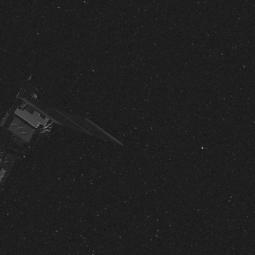soho: (0, 76, 121, 165)
